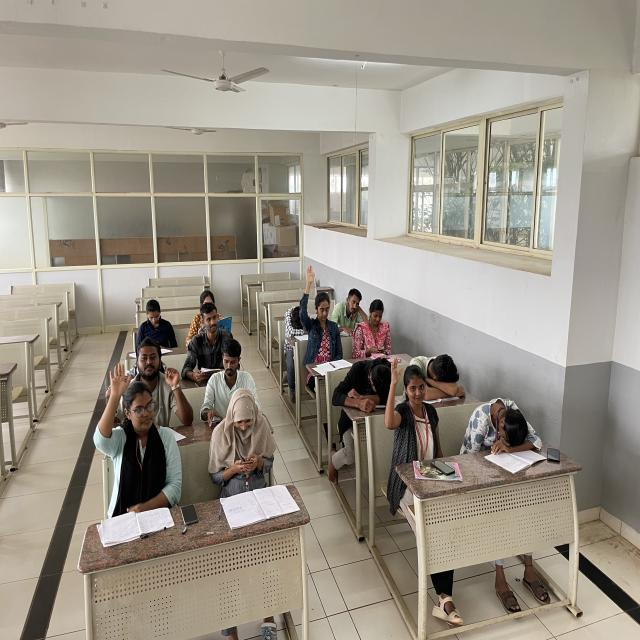Hand Rising: (94, 363, 180, 497), (384, 353, 444, 458), (300, 261, 345, 357)
Reading: (182, 304, 232, 378), (187, 288, 236, 344)
Sleeping: (461, 395, 542, 453), (336, 356, 394, 411), (412, 353, 470, 400), (281, 298, 315, 340)
Using Phone: (202, 392, 274, 492), (201, 336, 256, 431), (353, 301, 392, 355), (134, 298, 175, 348)
